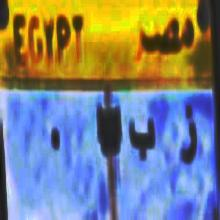0: (50, 118, 62, 158)
baa: (128, 115, 158, 165)
zay: (178, 98, 200, 172)
